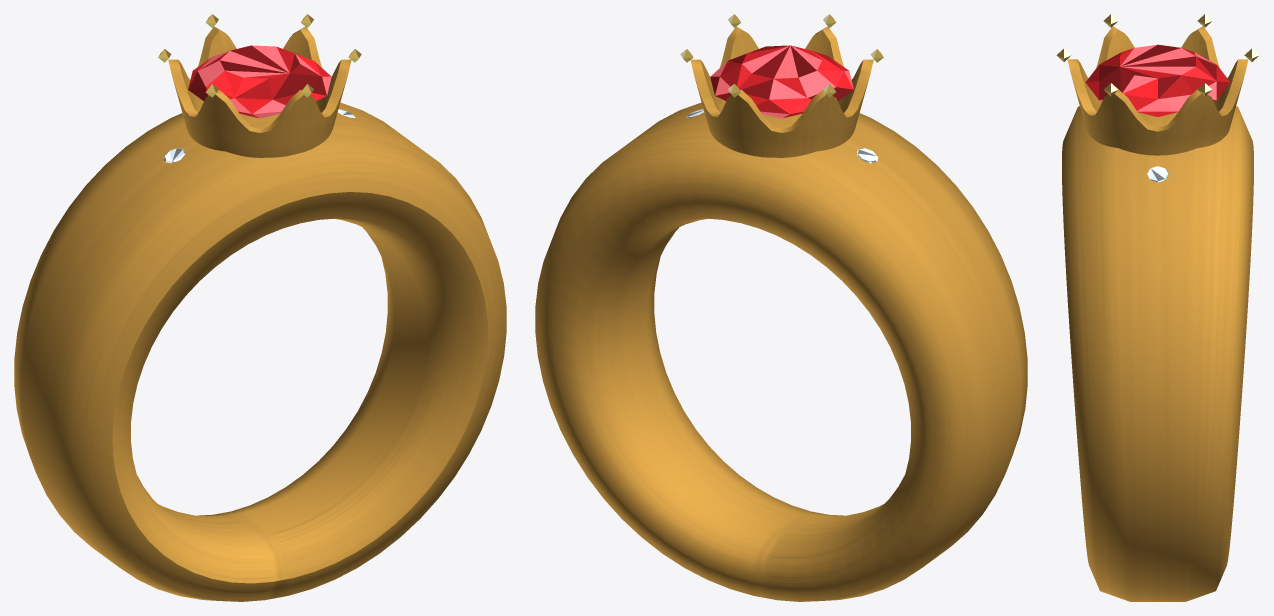
File: RingOfKings.glb
3 renders of one model, left to right at view 1: azimuth 30°, elevation 25°; view 2: azimuth 150°, elevation 25°; view 3: azimuth 270°, elevation 25°, orthographic.
Parts seen in each view (by area): view 1: RingOfKings; view 2: RingOfKings; view 3: RingOfKings.
Boxes of the visible parts, x1=… form: RingOfKings: x1=14, y1=14, x2=506, y2=601; RingOfKings: x1=535, y1=14, x2=1027, y2=601; RingOfKings: x1=1056, y1=14, x2=1259, y2=601.
Size of the model in its own units: 0.5957 by 0.6837 by 0.238.
Materials: 1 (1 with a texture image).
